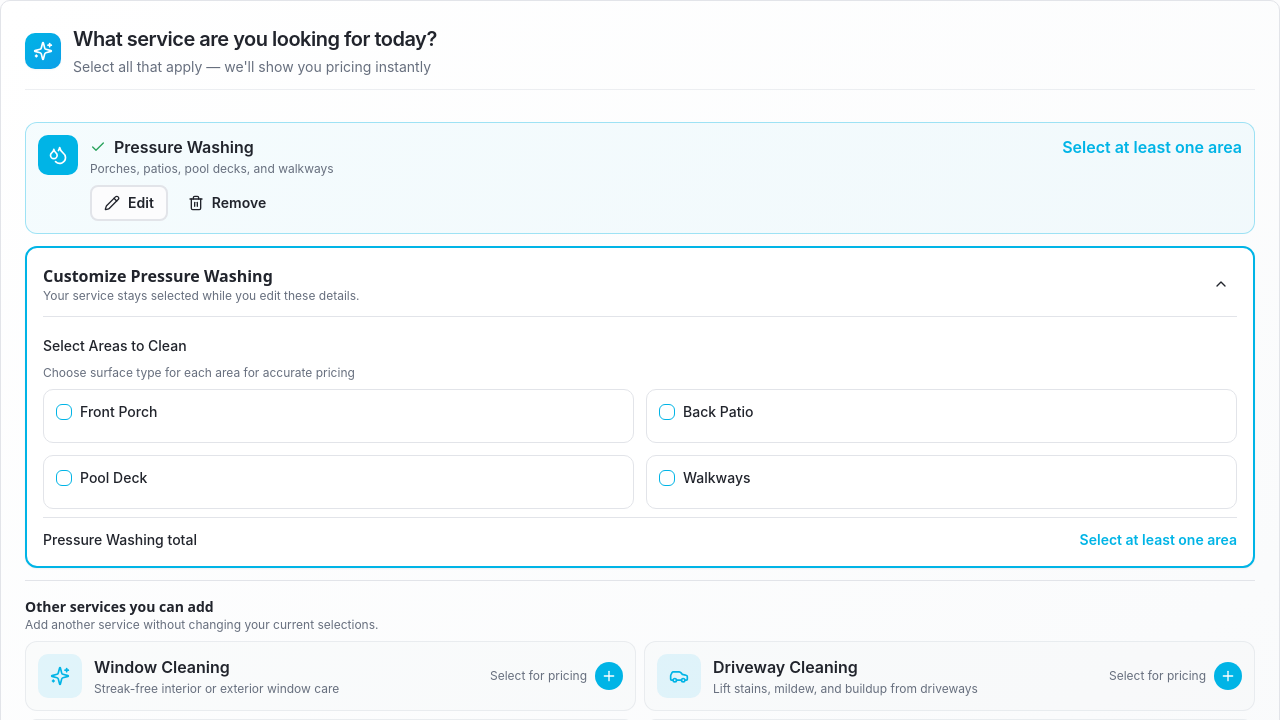
Scenario: IntentFirstServiceSelector quote hierarchy › requires a pressure-washing area before showing an authoritative amount
Check: the element with test id "selected-service-summary" shows "Select at least one area", box [1062,137,1242,157]
Check: the text with test id "pressure-washing-service-total" reads "Select at least one area", box [1080,531,1237,548]
Step 1. Click the checkbox named "Front Porch" next to "Front Porch" → (64, 412), box [56,404,72,420]
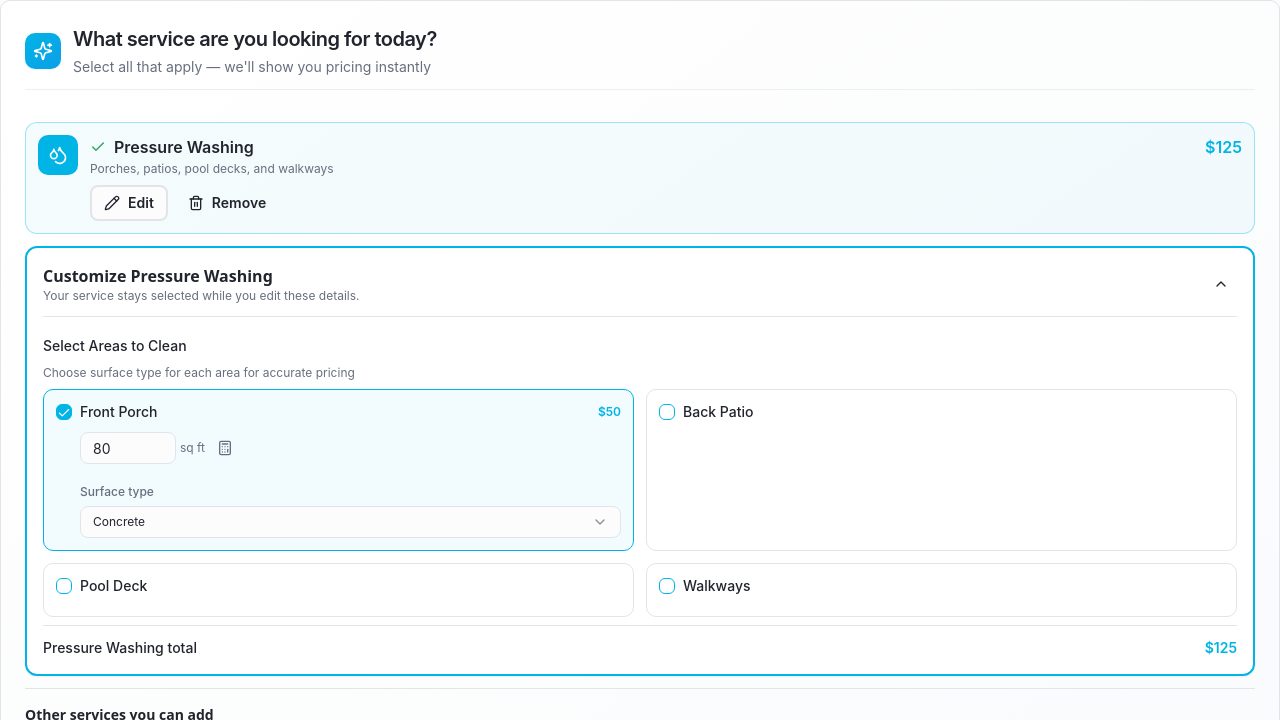
Check: the element with test id "selected-service-summary" shows "$125", box [1205,137,1242,157]
Check: the text with test id "pressure-washing-service-total" reads "$125", box [1205,639,1237,656]
